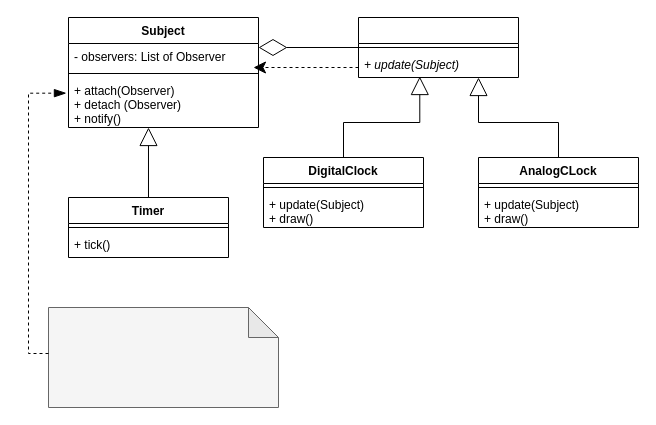
The diagram is 656 pixels wide and 425 high, and some of its shapes have lost their labels. Here are the shapes that lost their labels. From the top down, the box of each, then its label:
(358, 16, 518, 78): Observer
(48, 306, 278, 408): def notify(): for i in self._observers: i.update(self)
